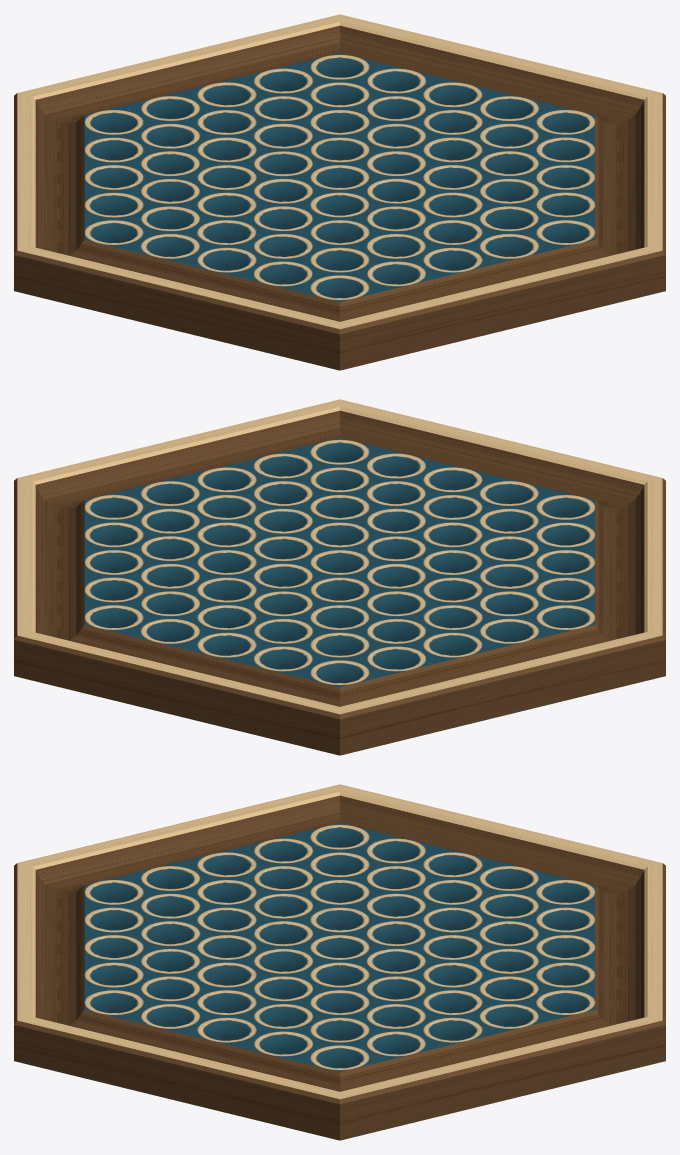
The model's file is board.glb.
The picture shows the model from 3 angles, top to bottom: view 1: azimuth 30°, elevation 25°; view 2: azimuth 150°, elevation 25°; view 3: azimuth 270°, elevation 25°; orthographic projection.
Visible parts, largest first — view 1: board; view 2: board; view 3: board.
Part boxes in pixels (<box>): board: <box>14,14,665,370</box>; board: <box>14,399,665,755</box>; board: <box>14,784,665,1140</box>.
Size of the model in its own units: 0.6 by 0.035 by 0.5196.
Materials: 5 (4 with a texture image).
